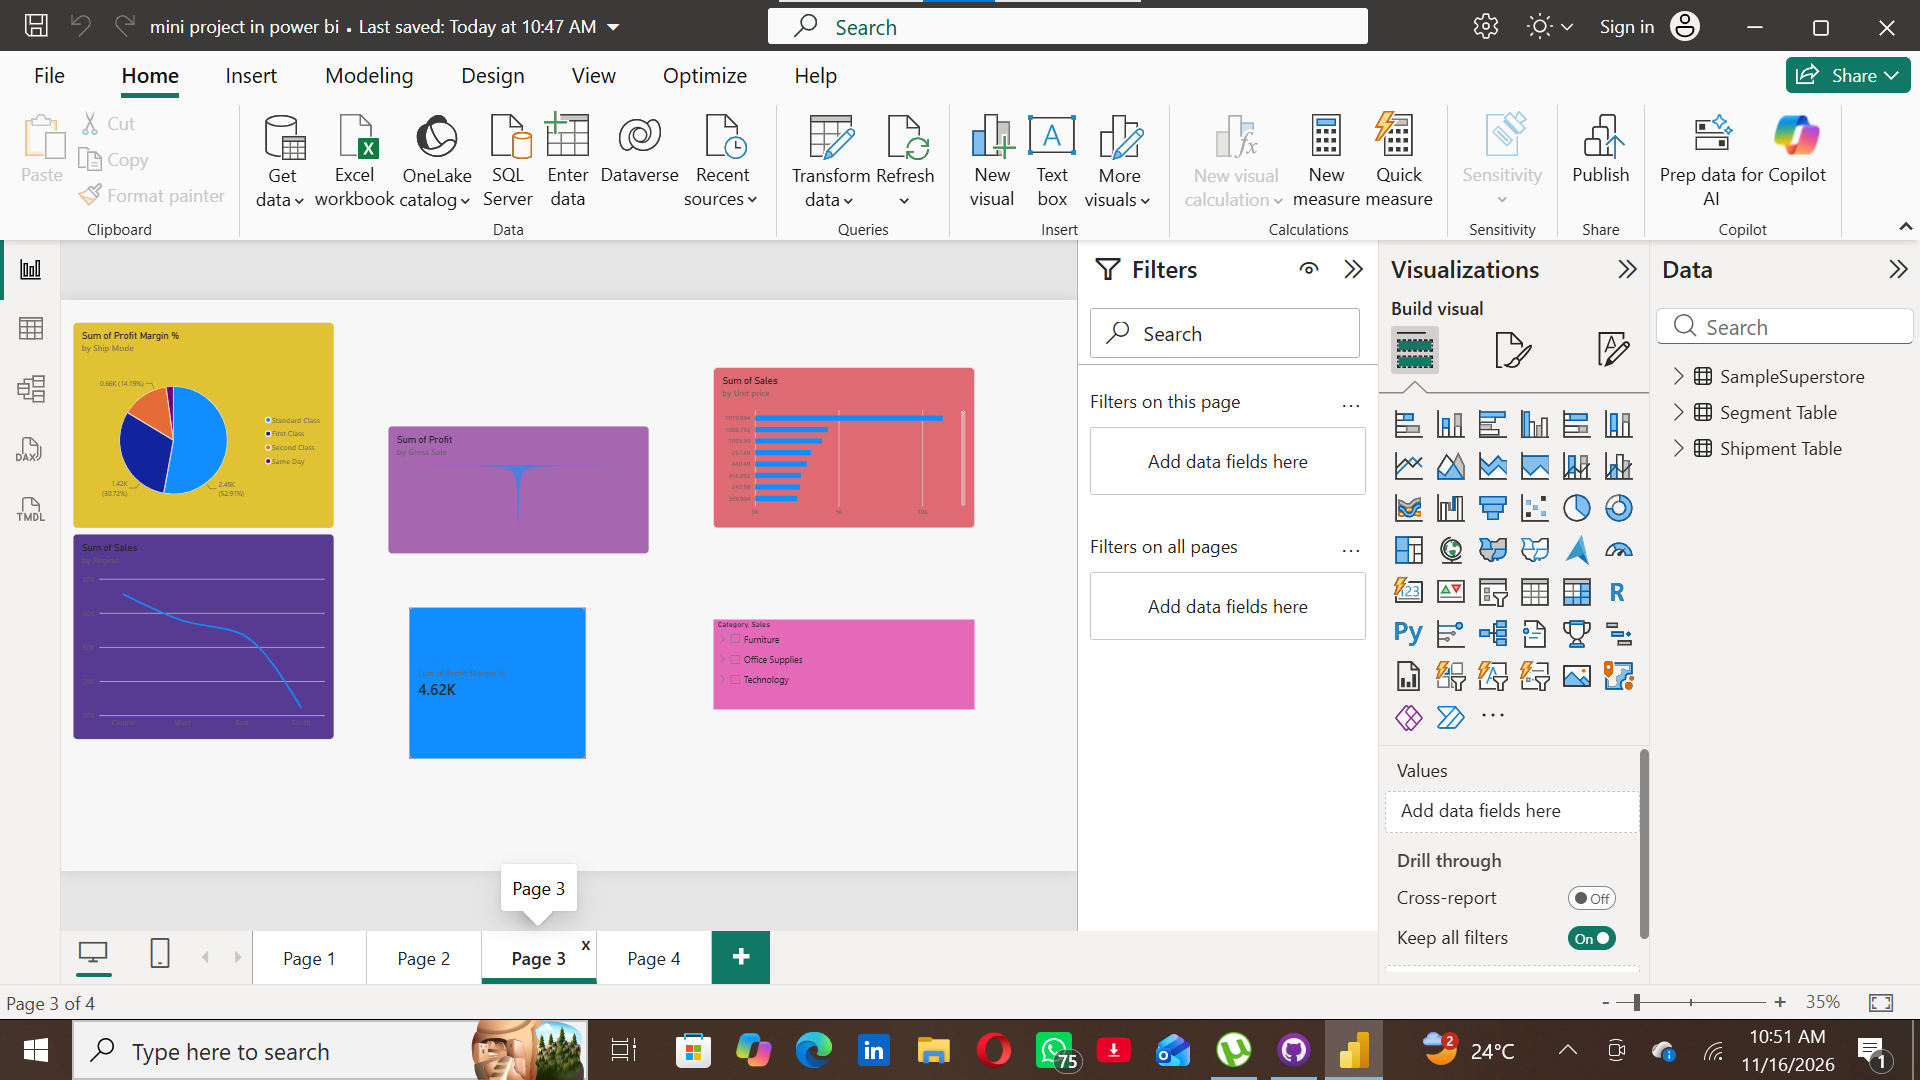

The dashboard page shown, as its layout file describes it:
{"tool":"powerbi","page":{"name":"Page 3","canvas":[1920,1080],"ordinal":2},"visuals":[{"type":"pieChart","fields":{"Category":["Shipment Table.Ship Mode"],"Y":["Sum(SampleSuperstore.Profit Margin %)"]},"box":[22.7,42.5,493.2,388.3],"z":0},{"type":"lineChart","fields":{"Category":["SampleSuperstore.Region"],"Y":["Sum(SampleSuperstore.Sales)"]},"box":[23,441,493,388],"z":1000},{"type":"funnel","fields":{"Category":["SampleSuperstore.Gross Sale"],"Y":["Sum(SampleSuperstore.Profit)"]},"box":[618,238.1,493,241],"z":2000},{"type":"barChart","fields":{"Category":["SampleSuperstore.Unit price"],"Y":["Sum(SampleSuperstore.Sales)"]},"box":[1233.1,127.6,493.2,303.3],"z":3000},{"type":"slicer","fields":{"Values":["SampleSuperstore.Category","SampleSuperstore.Sales"]},"box":[1233.1,603.8,493.2,170.1],"z":3001},{"type":"cardVisual","fields":{"Data":["Sum(SampleSuperstore.Profit Margin %)"]},"box":[657.6,581.1,334.5,286.3],"z":3002}]}

Visuals, with their boxes on the page's 1920x1080 design canvas (x1, y1, x2, y2). These are canvas units, not pixel positions in the 1920x1080 screenshot, which may show the page scaled, cropped or inside an application window:
pieChart - Shipment Table.Ship Mode x Sum(SampleSuperstore.Profit Margin %): rect(23, 42, 516, 431)
lineChart - SampleSuperstore.Region x Sum(SampleSuperstore.Sales): rect(23, 441, 516, 829)
funnel - SampleSuperstore.Gross Sale x Sum(SampleSuperstore.Profit): rect(618, 238, 1111, 479)
barChart - SampleSuperstore.Unit price x Sum(SampleSuperstore.Sales): rect(1233, 128, 1726, 431)
slicer - SampleSuperstore.Category x SampleSuperstore.Sales: rect(1233, 604, 1726, 774)
cardVisual - Sum(SampleSuperstore.Profit Margin %): rect(658, 581, 992, 867)
